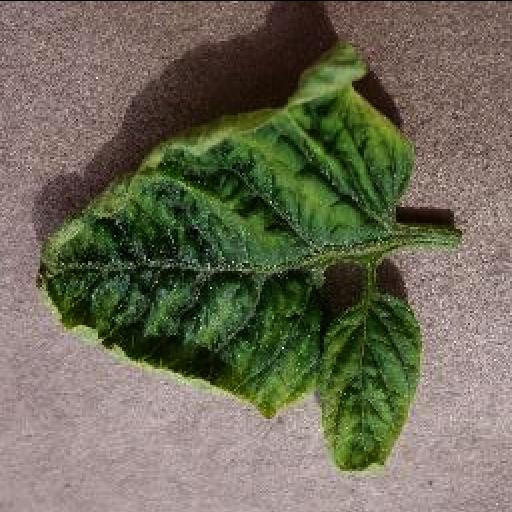disease_tomato: (32, 42, 416, 472)
